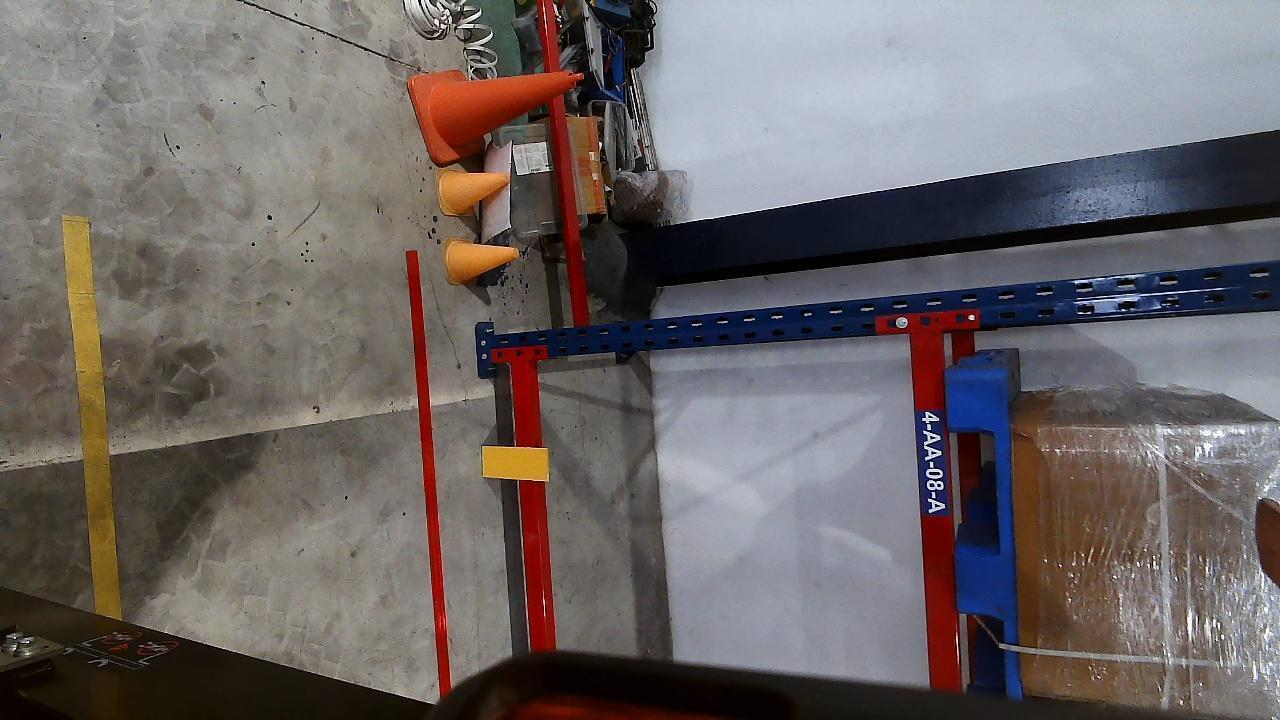red_line: (409, 250, 452, 696)
yellow_line: (60, 213, 118, 618)
